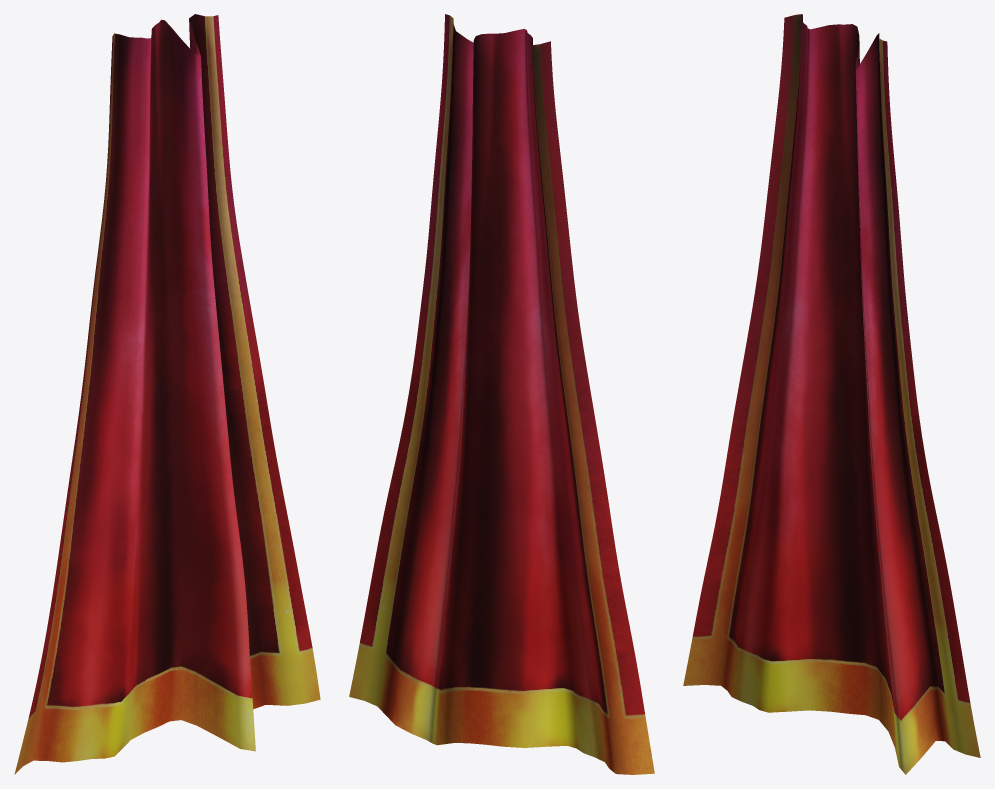
The model's file is curtain_02.FBX.
3 views of the same model, side by side, from view 1: azimuth 30°, elevation 25°; view 2: azimuth 150°, elevation 25°; view 3: azimuth 330°, elevation 25° (orthographic). The views are drawn at different scales.
Visible parts, largest first — view 1: curtain_01; view 2: curtain_01; view 3: curtain_01.
Part boxes in pixels (left/top/right/bottom): curtain_01: left=14, top=14, right=320, bottom=774; curtain_01: left=349, top=14, right=654, bottom=774; curtain_01: left=683, top=14, right=980, bottom=774.
Size of the model in its own units: 343 by 53.69 by 790.
1 material, 1 textured.
